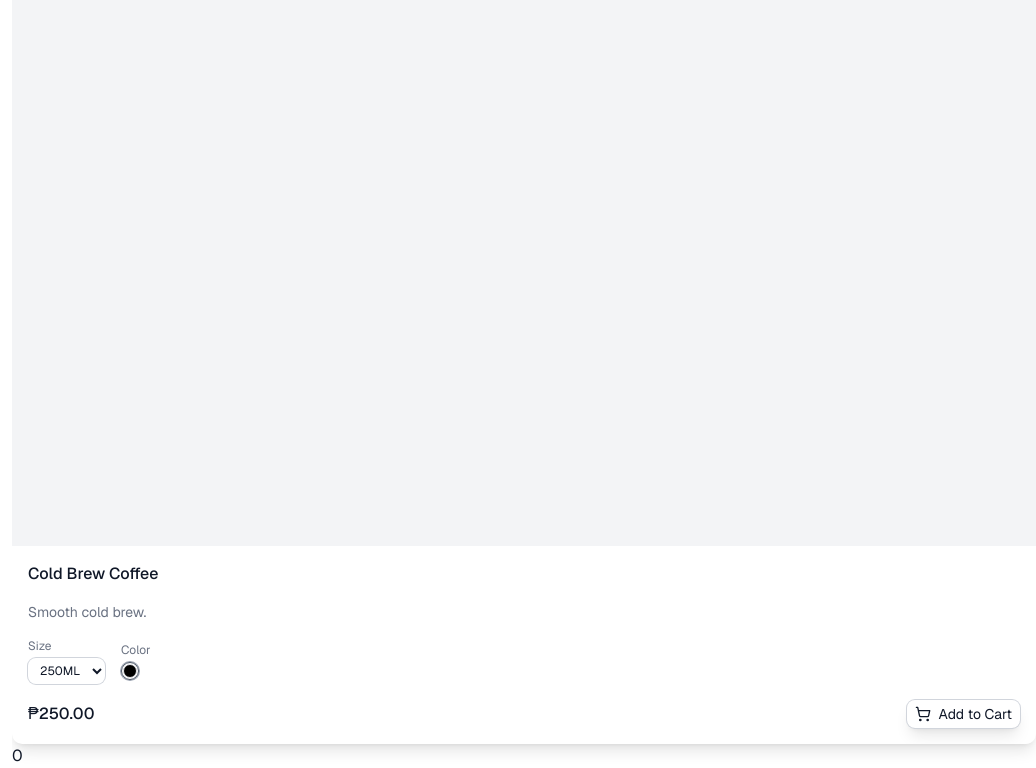
Test case: add to cart increments count
(page scrolled)
Expected: the text with test id "cart-count" reads "0", [12,745,23,766]
Click the button "Add to Cart": (963, 714) [906,700,1020,728]
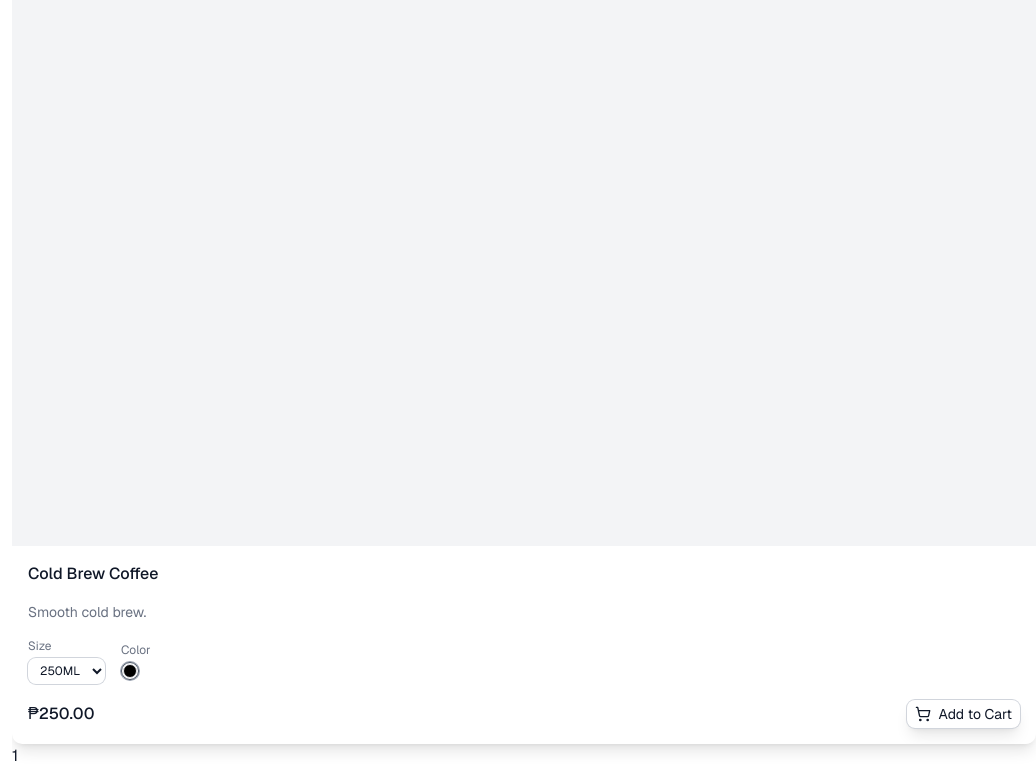
Expected: the text with test id "cart-count" reads "1", [12,745,18,766]
